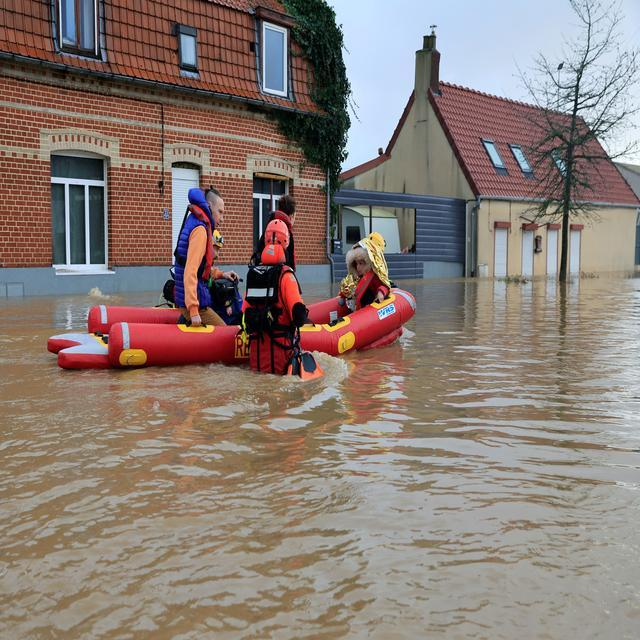Person-RiskLevel3: (239, 197, 310, 384), (162, 183, 242, 345), (333, 222, 411, 335)
